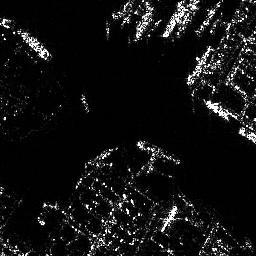ship: (133, 4, 152, 40)
